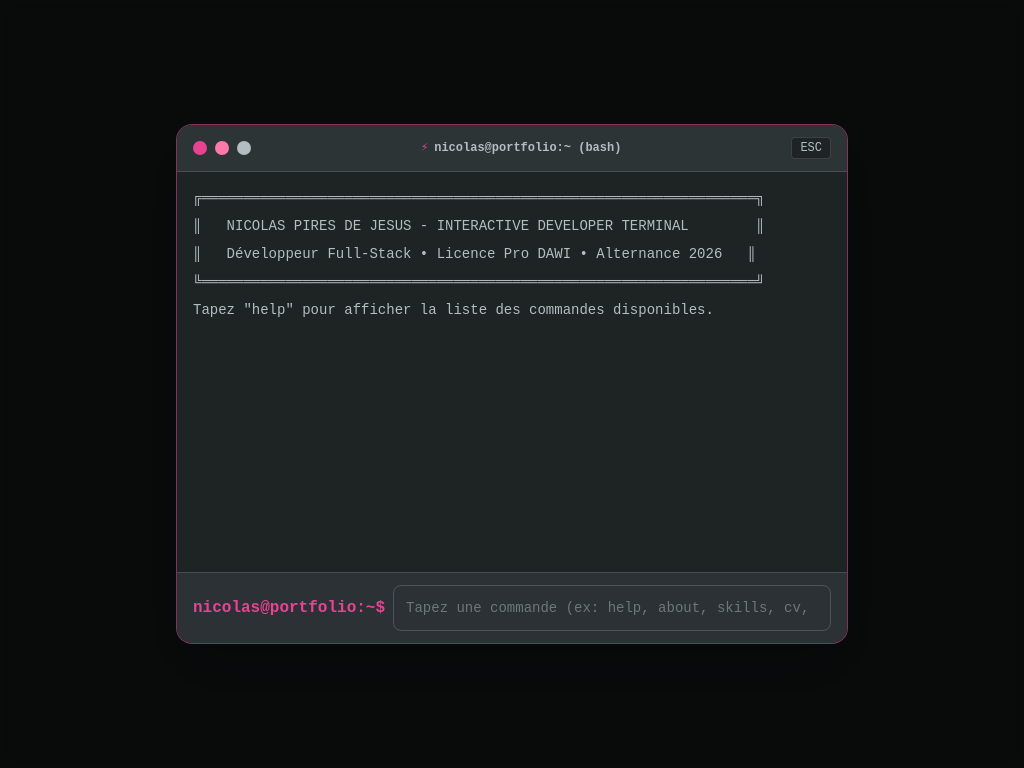
Scenario: DeveloperTerminal executes skills command
This screenshot has width=1024, height=768.
In the field with placeholder "Tapez une commande (ex: help, about, skills, cv, lang)...": (612, 608) [393,585,831,631], type "skills"
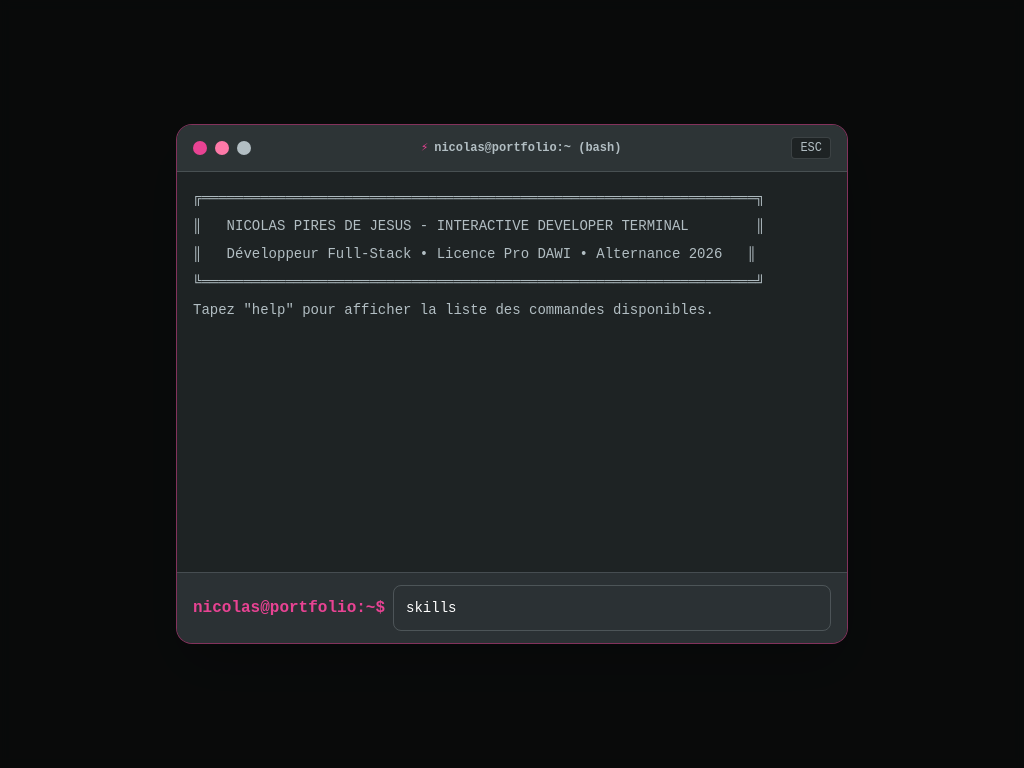
Press Enter in the field with placeholder "Tapez une commande (ex: help, about, skills, cv, lang)...", box [393,585,831,631]
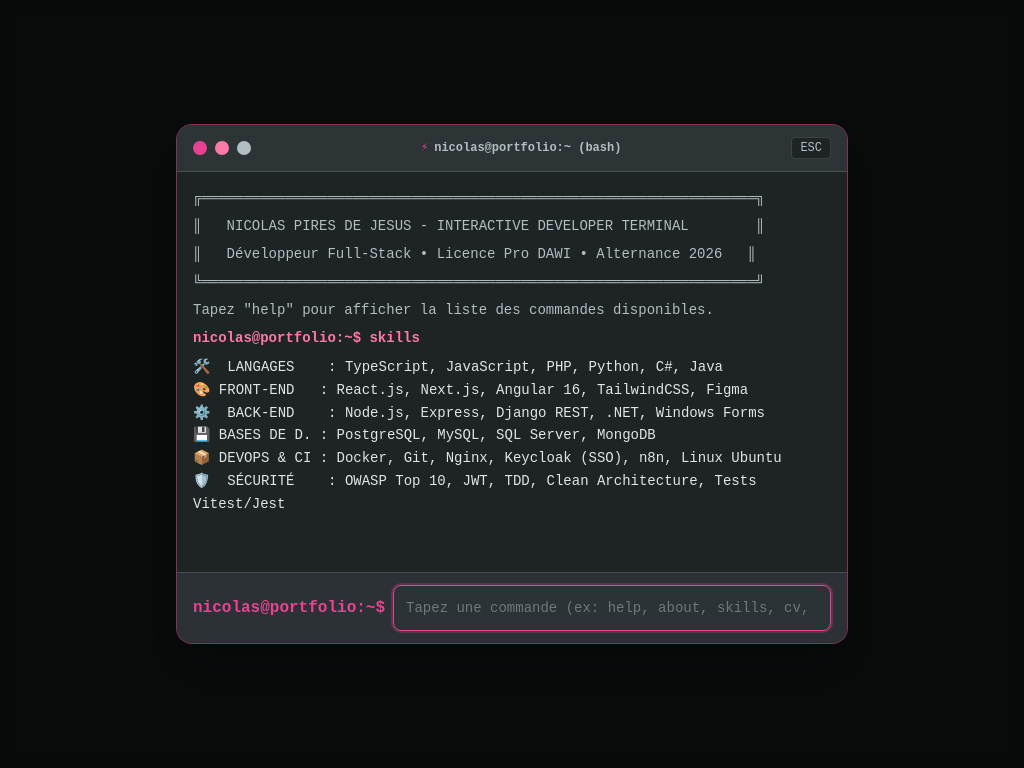
expect the text "FRONT-END" is shown: met, box [193,359,782,512]
